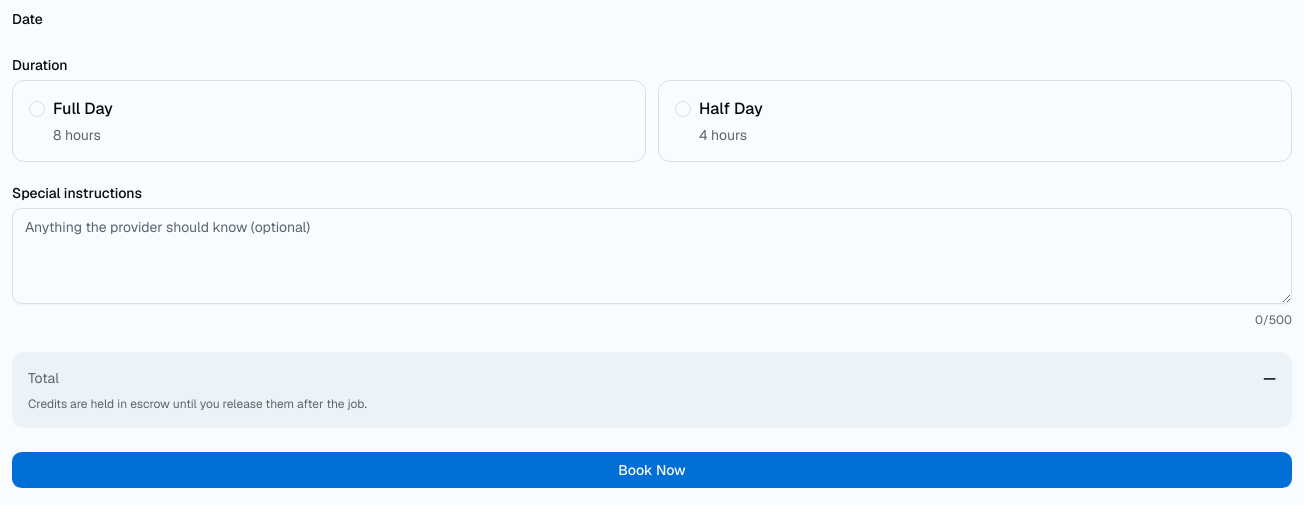
BookingForm › updates total credits when duration is selected
Click the radio button named "Half Day" next to "Half Day": (683, 109) x1=675 y1=101 x2=691 y2=117
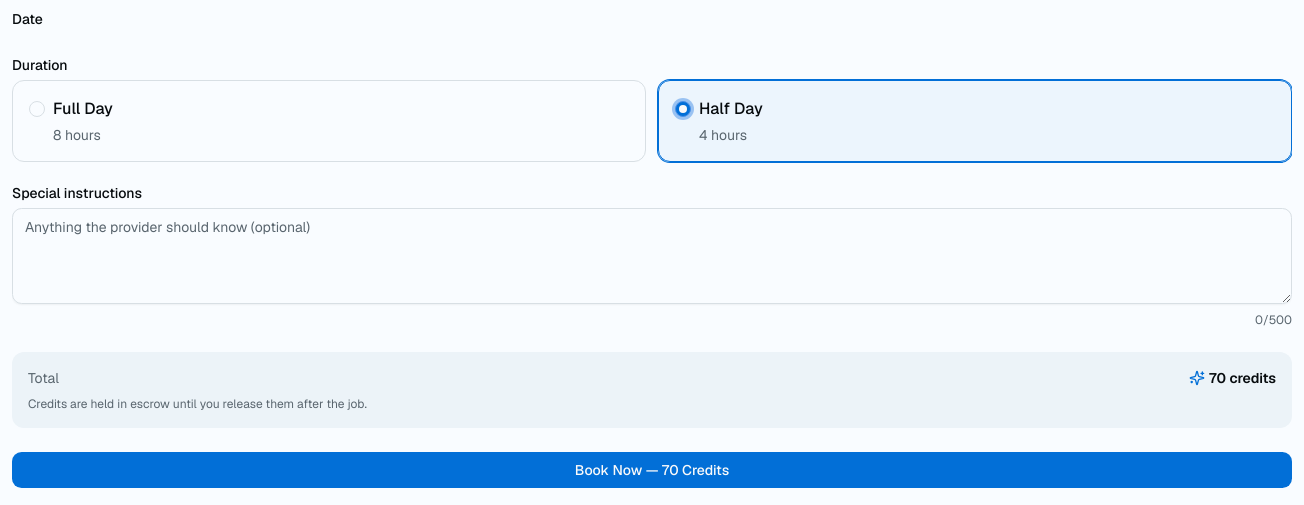
expect the text "70 credits" is shown: met, box x1=1189 y1=368 x2=1276 y2=388
